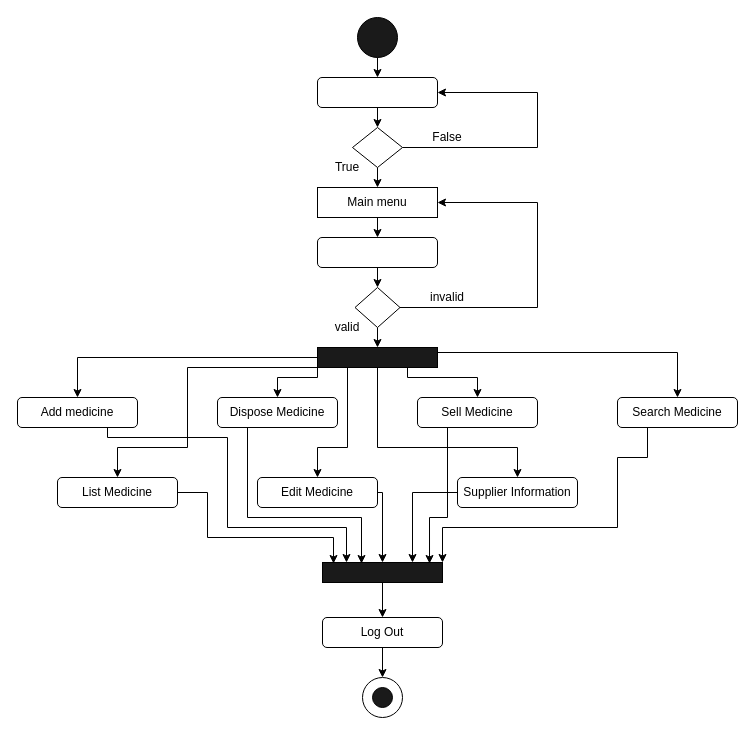
Image size: 755x735. Some labels were removed from this diagram. The centre of each missing label's shape, as x and y in pixels:
Enter choice: (x=377, y=252)
Login with password: (x=377, y=92)
